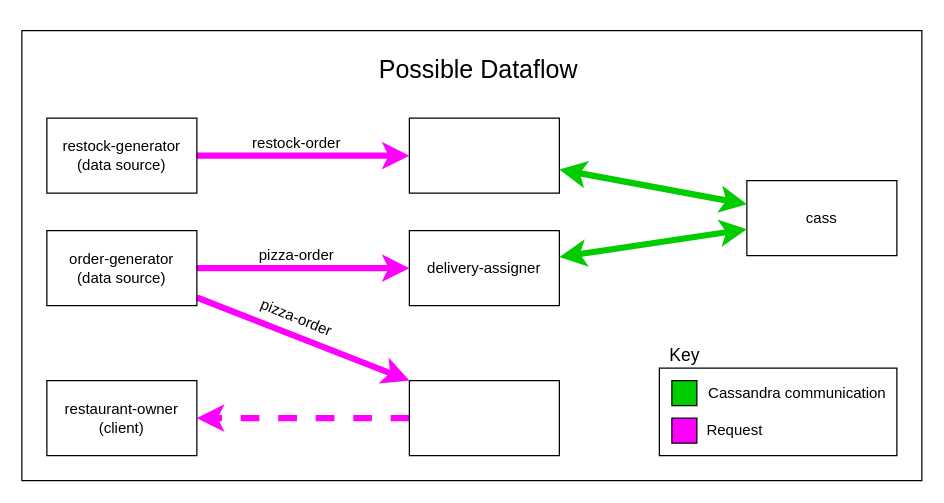
The diagram is 944 pixels wide and 503 high, and some of its shapes have lost their labels. Each missing label, with the centre of its shape:
auto-restocker: the point at 483,417
restocker: the point at 483,155
